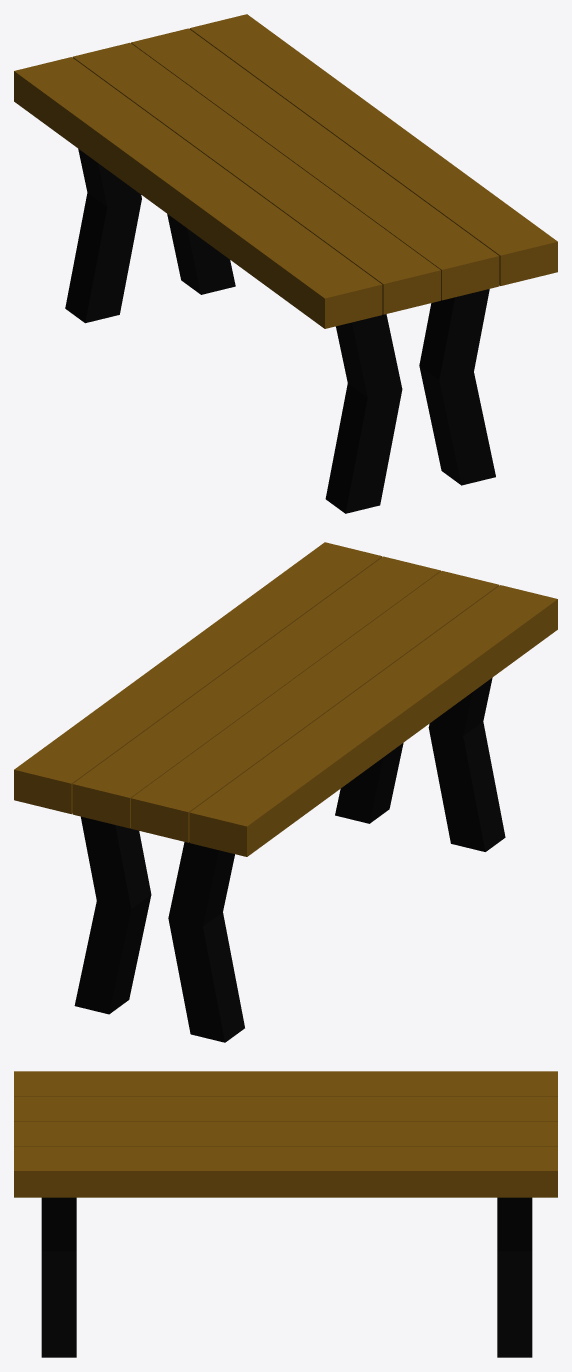
The model's file is OUTSIDETABLE.fbx.
3 views of the same model, one above another, from view 1: azimuth 30°, elevation 25°; view 2: azimuth 150°, elevation 25°; view 3: azimuth 270°, elevation 25° (orthographic). The views are drawn at different scales.
Parts seen in each view (by area): view 1: 평면, 평면.002, 평면.001, 평면.003, 큐브, 큐브.001, 큐브.003, 큐브.002; view 2: 평면, 평면.002, 평면.001, 평면.003, 큐브.003, 큐브.002, 큐브, 큐브.001; view 3: 평면.002, 평면, 평면.001, 평면.003, 큐브.001, 큐브.002.
Part boxes in pixels (bbox=[...]): 평면: bbox=[14, 57, 382, 328]; 평면.002: bbox=[189, 14, 557, 285]; 평면.001: bbox=[72, 42, 440, 314]; 평면.003: bbox=[131, 28, 499, 300]; 큐브: bbox=[325, 314, 402, 513]; 큐브.001: bbox=[419, 289, 495, 485]; 큐브.003: bbox=[65, 148, 141, 323]; 큐브.002: bbox=[167, 214, 235, 294]; 평면: bbox=[189, 585, 557, 856]; 평면.002: bbox=[14, 542, 382, 814]; 평면.001: bbox=[131, 571, 499, 842]; 평면.003: bbox=[72, 556, 440, 828]; 큐브.003: bbox=[168, 842, 244, 1042]; 큐브.002: bbox=[74, 816, 151, 1014]; 큐브: bbox=[428, 677, 505, 851]; 큐브.001: bbox=[335, 743, 403, 823]; 평면.002: bbox=[14, 1146, 557, 1197]; 평면: bbox=[14, 1071, 557, 1096]; 평면.001: bbox=[14, 1096, 557, 1121]; 평면.003: bbox=[14, 1121, 557, 1146]; 큐브.001: bbox=[41, 1197, 76, 1357]; 큐브.002: bbox=[497, 1197, 532, 1357].
Bounding box in the file's own units: 264 × 256 × 611.
